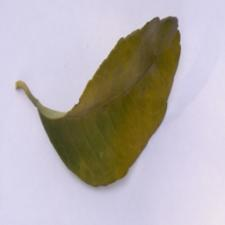Black: (16, 24, 194, 164)
